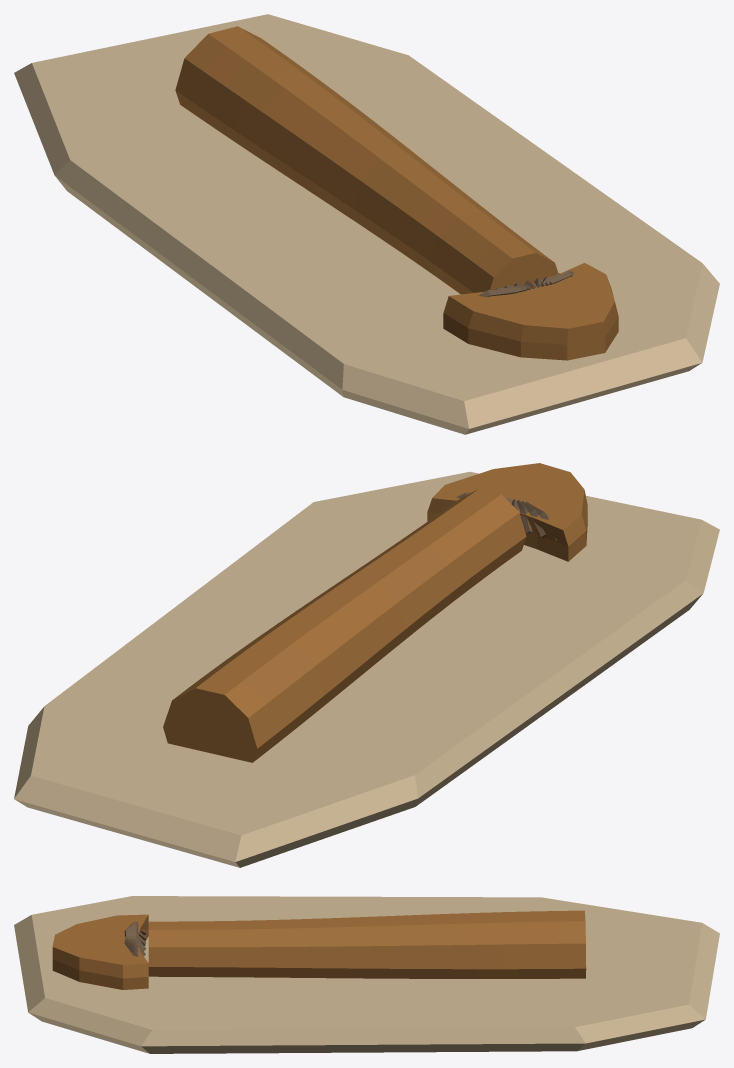
The model's file is gondwanagaricites.glb.
The picture shows the model from 3 angles, top to bottom: view 1: azimuth 30°, elevation 25°; view 2: azimuth 150°, elevation 25°; view 3: azimuth 270°, elevation 25°; orthographic projection. The views are drawn at different scales.
Parts seen in each view (by area): view 1: illustrative_sediment_support, mineralized_stalk, compressed_convex_cap, shallow_exposed_gill_relief; view 2: illustrative_sediment_support, mineralized_stalk, compressed_convex_cap, shallow_exposed_gill_relief; view 3: illustrative_sediment_support, mineralized_stalk, compressed_convex_cap, shallow_exposed_gill_relief.
Part boxes in pixels (x1=…): illustrative_sediment_support: x1=14, y1=14, x2=719, y2=434; mineralized_stalk: x1=175, y1=26, x2=558, y2=294; compressed_convex_cap: x1=443, y1=263, x2=618, y2=360; shallow_exposed_gill_relief: x1=478, y1=270, x2=573, y2=297; illustrative_sediment_support: x1=14, y1=471, x2=719, y2=867; mineralized_stalk: x1=163, y1=488, x2=526, y2=762; compressed_convex_cap: x1=427, y1=463, x2=587, y2=561; shallow_exposed_gill_relief: x1=456, y1=492, x2=557, y2=540; illustrative_sediment_support: x1=14, y1=896, x2=719, y2=1053; mineralized_stalk: x1=148, y1=910, x2=586, y2=978; compressed_convex_cap: x1=52, y1=914, x2=148, y2=989; shallow_exposed_gill_relief: x1=124, y1=921, x2=146, y2=956.
Bounding box in the file's own units: 0.026 × 0.00609 × 0.055.
